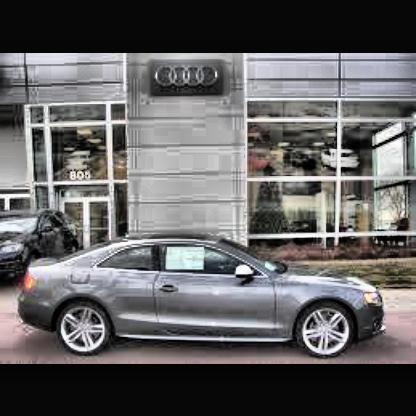Audi S5 Coupe 2012: (22, 235, 391, 360)
